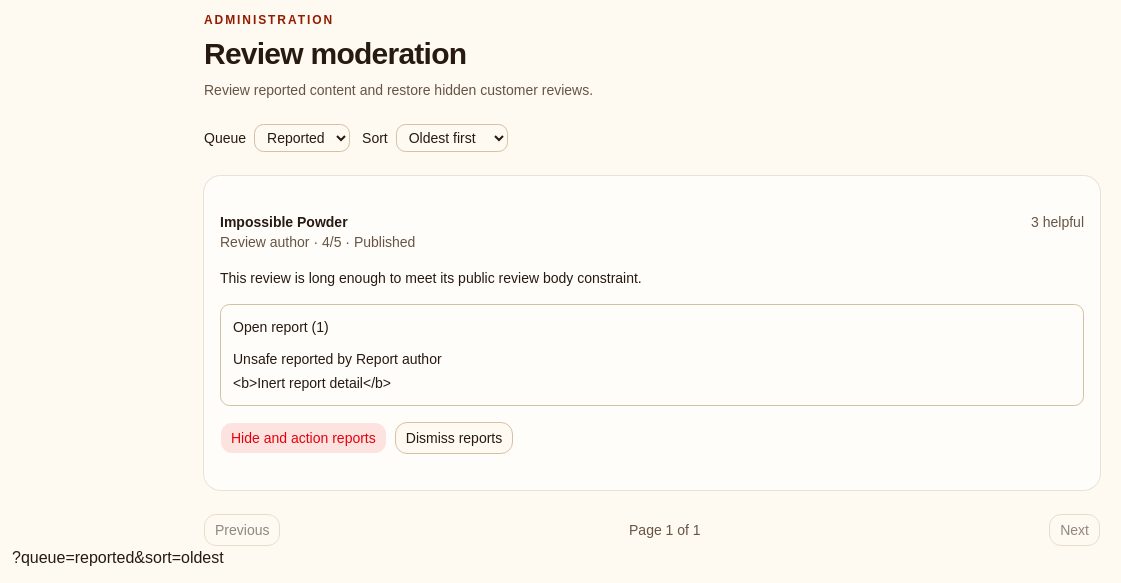
Test: AdminReviewModerationPage › focuses queue heading when moderation leaves no queue card
Expected: the heading "Impossible Powder" is shown, [220,214,348,230]
Click the button "Hide and action reports": (303, 438) [220,422,387,454]
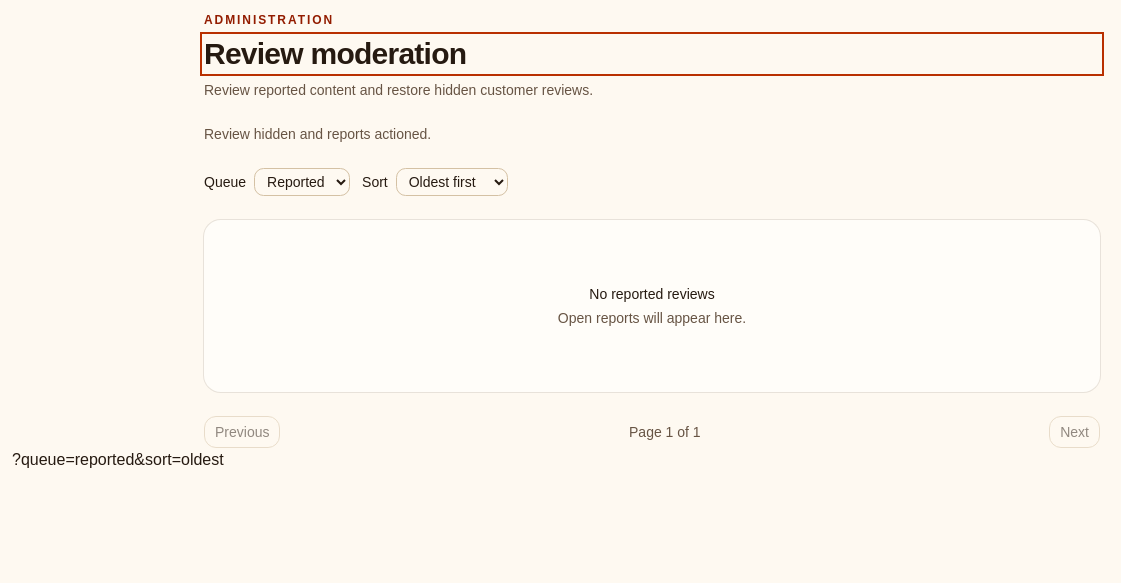
Expected: the text "No reported reviews" is shown, [589,286,715,302]
